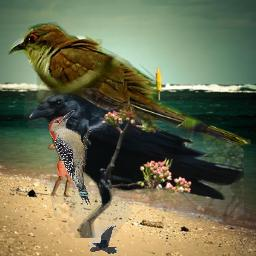Crow: (20, 88, 244, 238), (89, 225, 117, 254)
Cuckoo: (8, 22, 251, 148)
Woodpecker: (49, 109, 91, 207)
